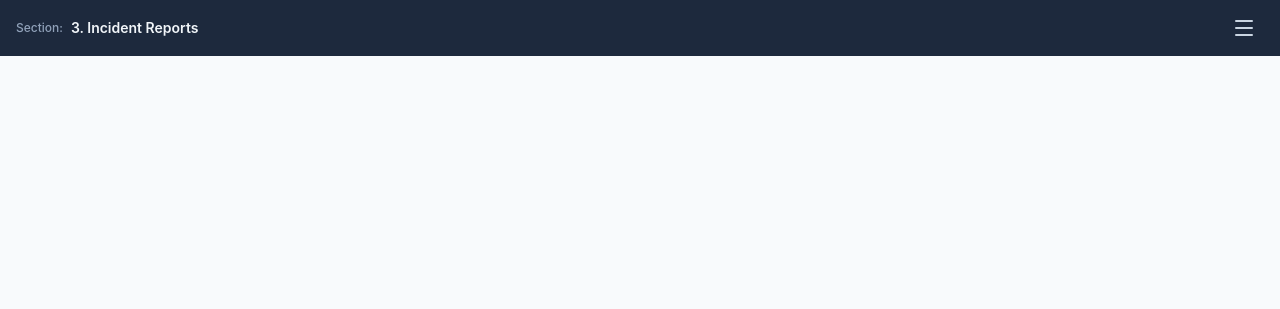
Scenario: Navbar accessibility › exposes mobile menu state and identifies the active section
Click the button named "Toggle navigation menu".
click(1244, 28)  # box [1224,8,1264,48]
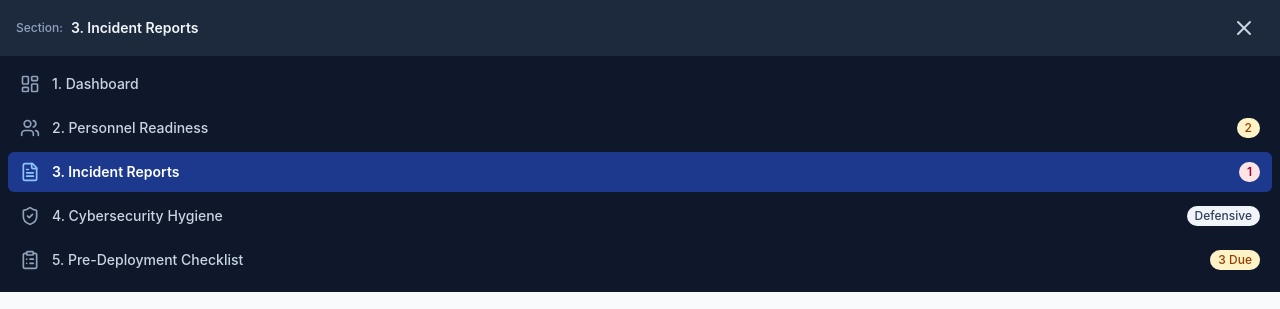
Check: the button named "Toggle navigation menu" is expanded, box [1224,8,1264,48]
Check: the element with id "safer-mobile-navigation" is shown
